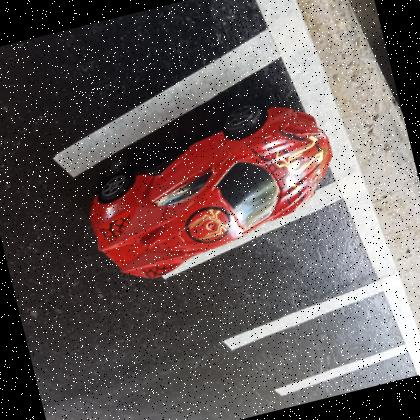Car: (89, 99, 332, 278)
